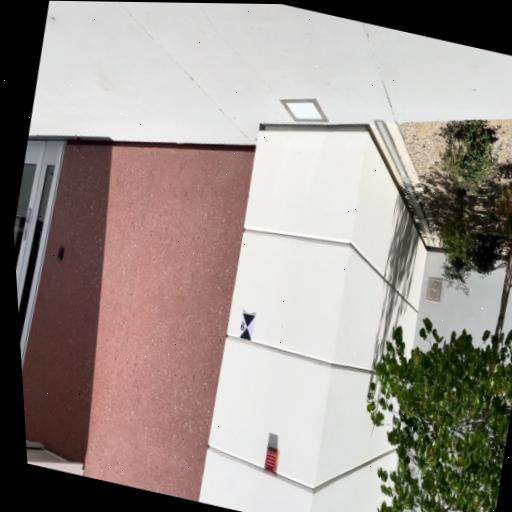target9: (236, 312, 257, 341)
